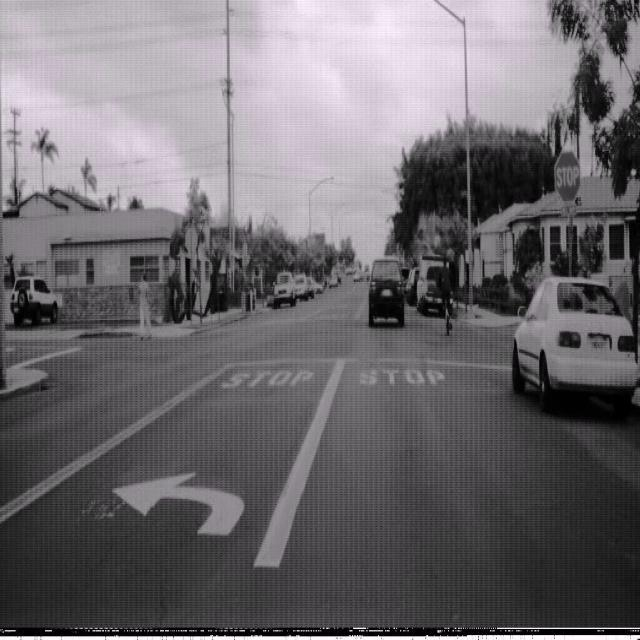stop: (554, 148, 581, 204)
